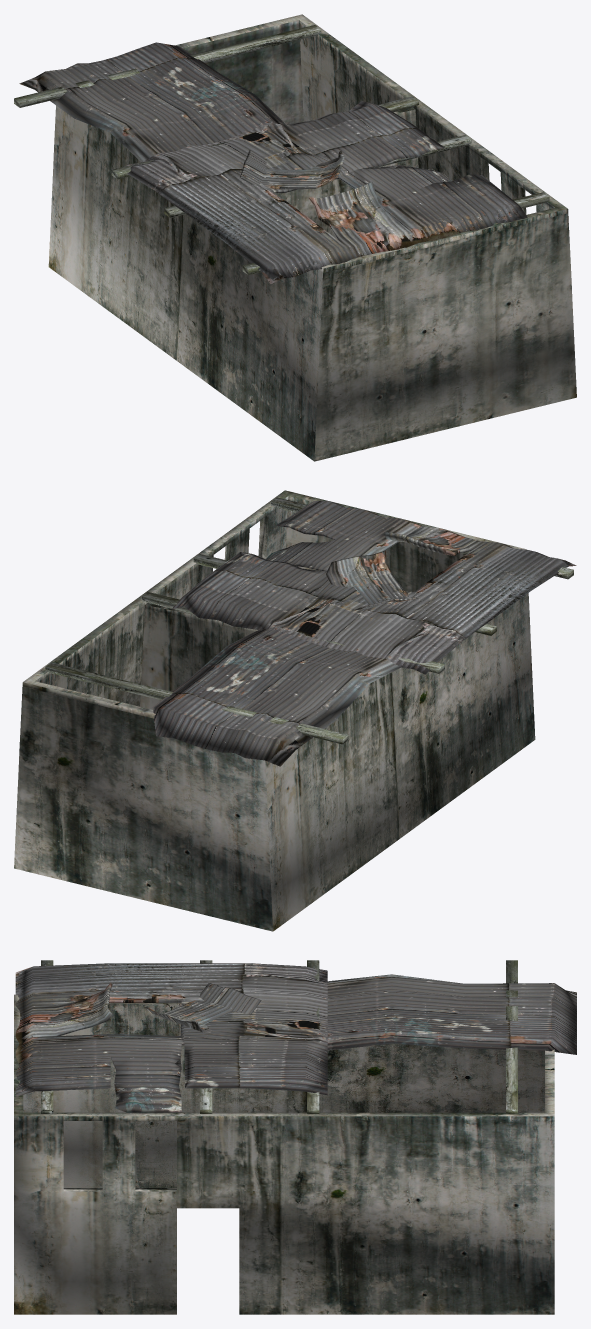
File: shanty12.fbx
The picture shows the model from 3 angles, top to bottom: view 1: azimuth 30°, elevation 25°; view 2: azimuth 150°, elevation 25°; view 3: azimuth 270°, elevation 25°; orthographic projection. The views are drawn at different scales.
Visible parts, largest first — view 1: U3DMesh; view 2: U3DMesh; view 3: U3DMesh.
Part boxes in pixels (left/top/right/bottom): U3DMesh: left=14, top=14, right=576, bottom=461; U3DMesh: left=14, top=490, right=576, bottom=931; U3DMesh: left=14, top=960, right=576, bottom=1314.
Bounding box in the file's own units: 268 × 179 × 408.
